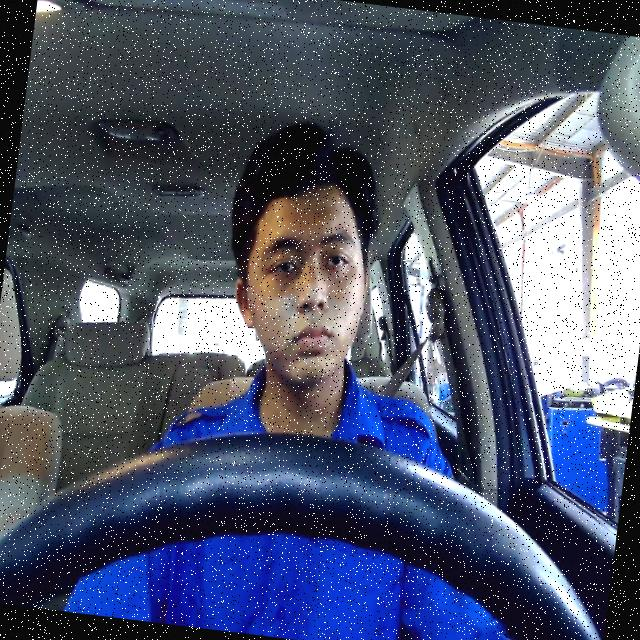focused: (224, 177, 380, 391)
